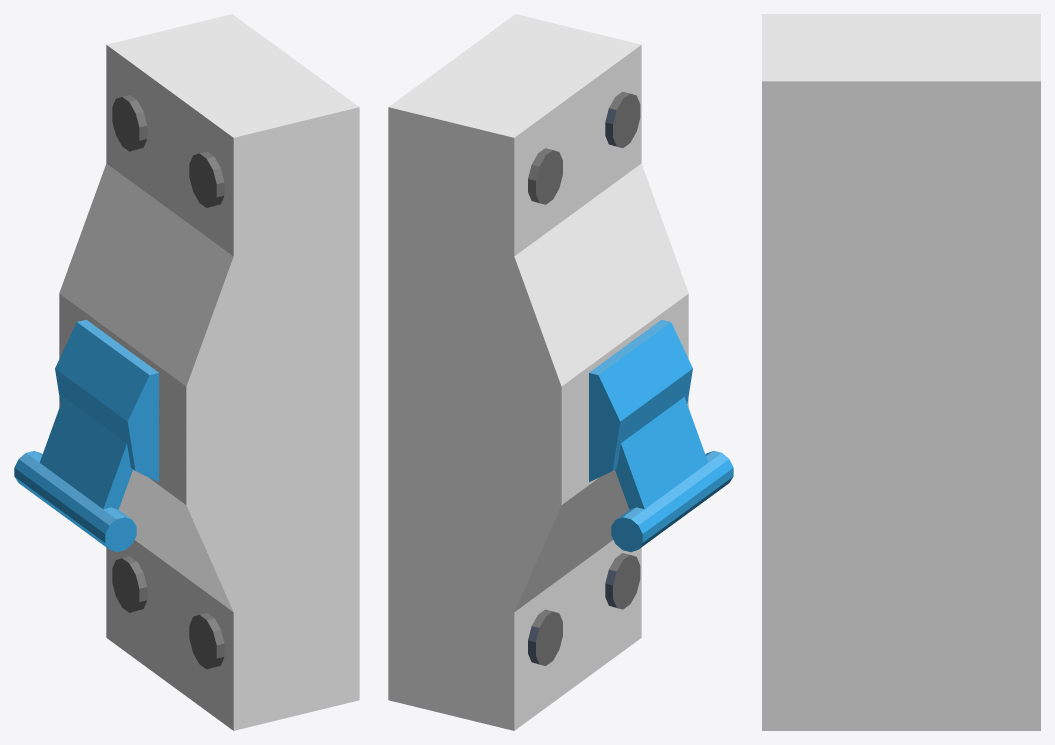
File: switch.obj
3 renders of one model, left to right at view 1: azimuth 30°, elevation 25°; view 2: azimuth 150°, elevation 25°; view 3: azimuth 270°, elevation 25°, orthographic. The views are drawn at different scales.
Parts seen in each view (by area): view 1: cylinder; view 2: cylinder; view 3: cylinder.
Boxes of the visible parts, x1,y1,x2,y2 form: cylinder: [14, 14, 359, 730]; cylinder: [388, 14, 733, 730]; cylinder: [762, 14, 1040, 730].
Size of the model in its own units: 0.4688 by 1.12 by 0.4375.
Materials: 1 (1 with a texture image).
